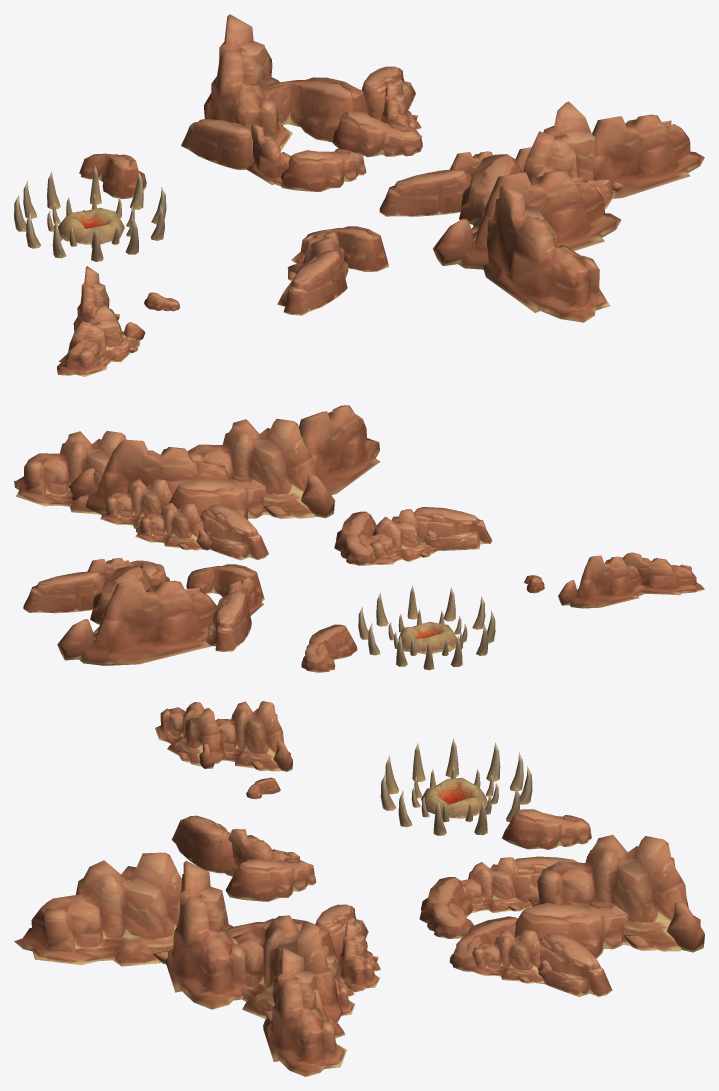
Rendered from rock_red08_y.FBX.
3 renders of one model, top to bottom at view 1: azimuth 30°, elevation 25°; view 2: azimuth 150°, elevation 25°; view 3: azimuth 270°, elevation 25°, orthographic. The views are drawn at different scales.
Parts seen in each view (by area): view 1: rock_red08_y; view 2: rock_red08_y; view 3: rock_red08_y.
Boxes of the visible parts, x1=… form: rock_red08_y: x1=14, y1=14, x2=704, y2=376; rock_red08_y: x1=14, y1=405, x2=704, y2=672; rock_red08_y: x1=14, y1=701, x2=704, y2=1076.
Size of the model in its own units: 114 by 13.51 by 93.9.
Materials: 1 (1 with a texture image).
